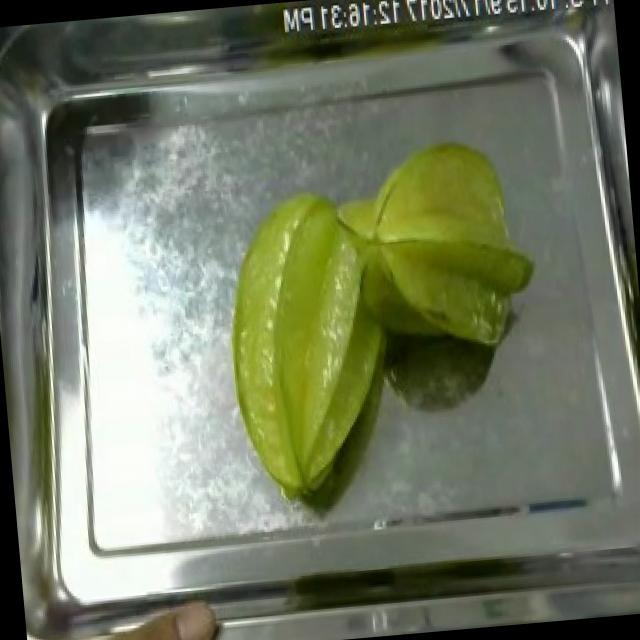fruit: (206, 175, 408, 514), (352, 120, 548, 370)
